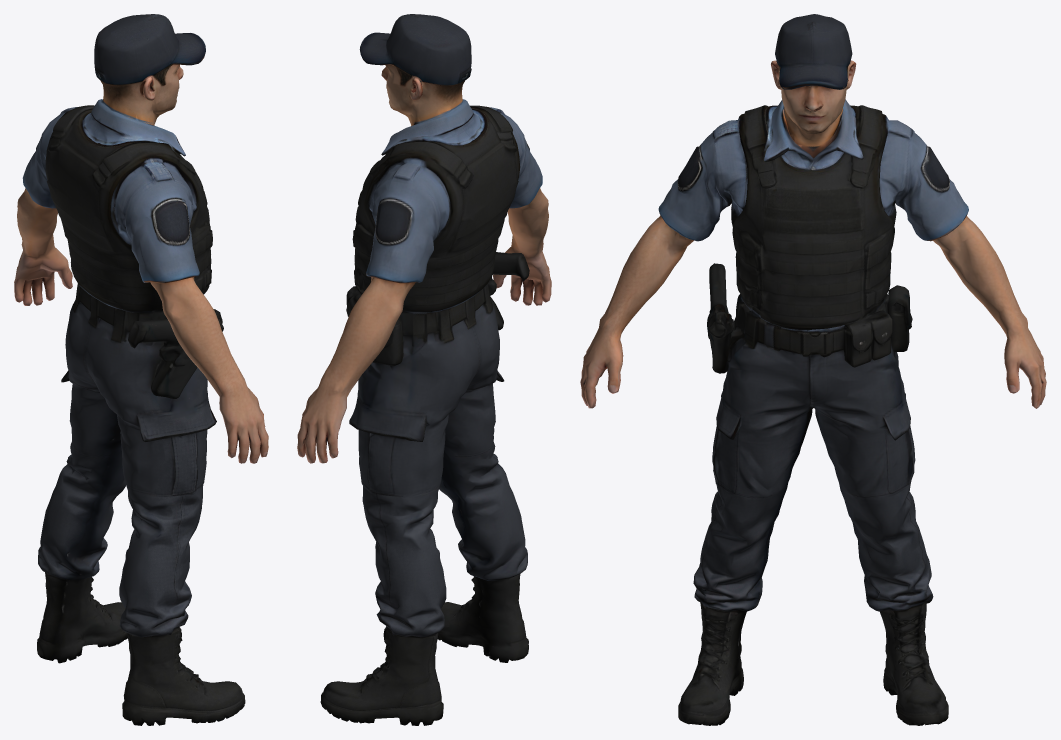
The model's file is policial.glb.
3 renders of one model, left to right at view 1: azimuth 30°, elevation 25°; view 2: azimuth 150°, elevation 25°; view 3: azimuth 270°, elevation 25°, orthographic. The views are drawn at different scales.
Parts seen in each view (by area): view 1: tripo_node_7fcae00f-c140-463e-958a-673515c49d5b; view 2: tripo_node_7fcae00f-c140-463e-958a-673515c49d5b; view 3: tripo_node_7fcae00f-c140-463e-958a-673515c49d5b.
Part boxes in pixels (box(x1,y1,x2,y2)): tripo_node_7fcae00f-c140-463e-958a-673515c49d5b: box(14, 14, 268, 725); tripo_node_7fcae00f-c140-463e-958a-673515c49d5b: box(297, 14, 551, 725); tripo_node_7fcae00f-c140-463e-958a-673515c49d5b: box(580, 14, 1046, 725).
Bounding box in the file's own units: 0.3619 × 1.8 × 1.1.
Materials: 1 (1 with a texture image).
